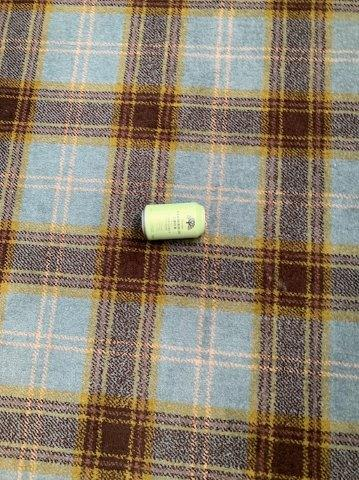kaleng: (142, 202, 208, 240)
